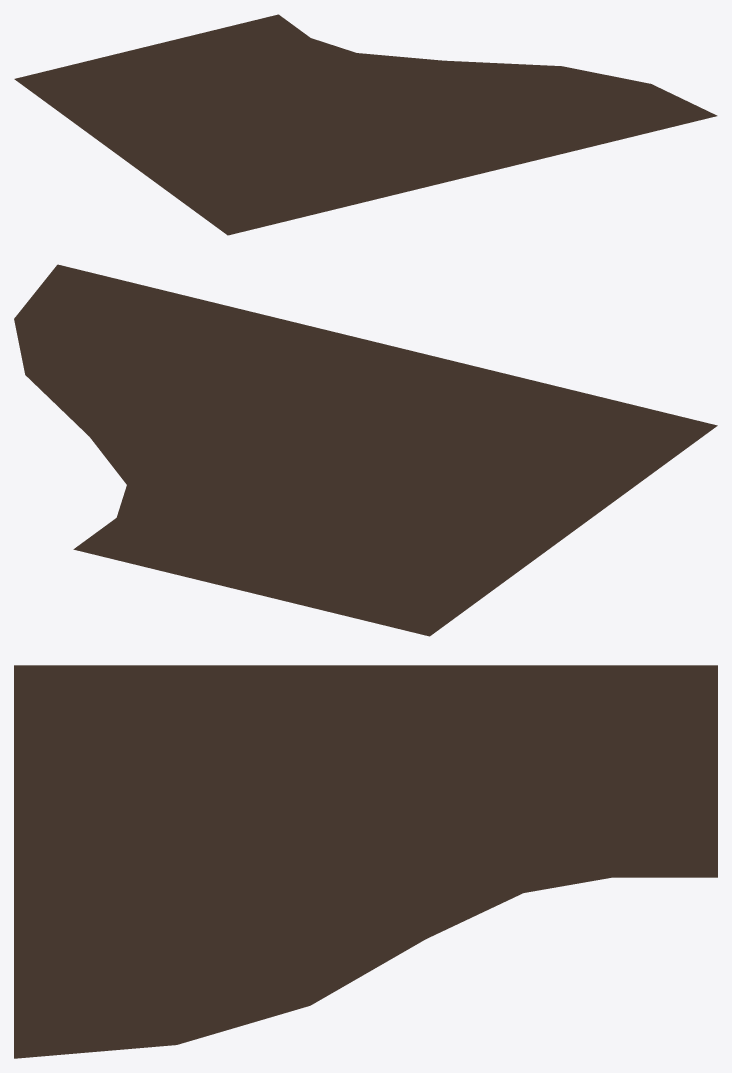
The model's file is Brown.fbx.
The picture shows the model from 3 angles, top to bottom: view 1: azimuth 30°, elevation 25°; view 2: azimuth 150°, elevation 25°; view 3: azimuth 270°, elevation 25°; orthographic projection. The views are drawn at different scales.
Visible parts, largest first — view 1: pasted__pPlane7; view 2: pasted__pPlane7; view 3: pasted__pPlane7.
Part boxes in pixels (x1=…): pasted__pPlane7: x1=14, y1=14, x2=717, y2=235; pasted__pPlane7: x1=14, y1=264, x2=717, y2=636; pasted__pPlane7: x1=14, y1=665, x2=717, y2=1058.
Bounding box in the file's own units: 0.982 × 2.38e-07 × 0.7422.
